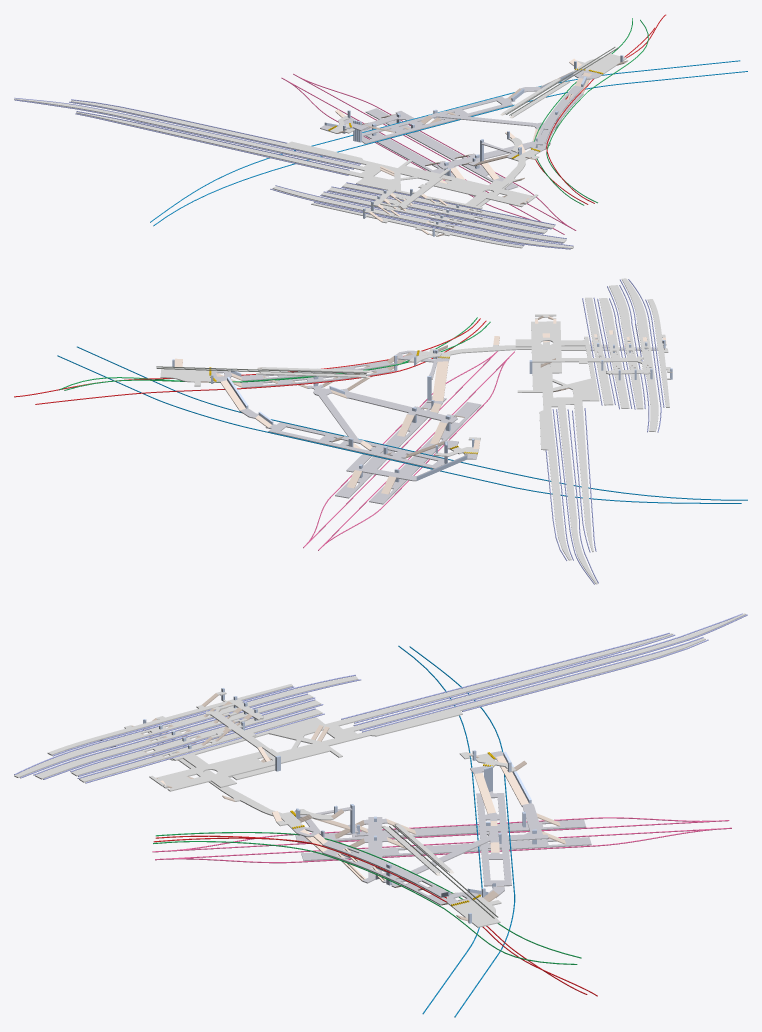
The model's file is t-centralen.glb.
3 views of the same model, one above another, from view 1: azimuth 30°, elevation 25°; view 2: azimuth 150°, elevation 25°; view 3: azimuth 270°, elevation 25° (orthographic). The views are drawn at different scales.
Visible parts, largest first — view 1: rect46439-3-8, path1187-0, path17408, path17410, rect11232, path2859-3, path17393, path2861-8, path17391, path27604, rect3630, path1860 (+3 smaller); view 2: rect46439-3-8, path1187-0, path17408, rect11232, path17410, path2861-8, path17391, path17393, path2859-3, path1860, rect25955, rect3630 (+7 smaller); view 3: rect46439-3-8, path1187-0, path17408, path17410, rect11232, path2861-8, path2859-3, path1860, path27604, rect3630, path32511, path17401 (+9 smaller).
Boxes of the visible parts, x1,y1,x2,y2 form: rect46439-3-8: (14,98,532,209); path1187-0: (272,183,573,248); path17408: (270,182,573,249); path17410: (14,97,361,175); rect11232: (362,96,515,143); path2859-3: (365,108,518,189); path17393: (153,71,747,226); path2861-8: (343,117,485,196); path17391: (150,60,740,222); path27604: (537,85,583,143); rect3630: (371,169,449,209); path1860: (431,149,539,235); rect46439-3-8: (515,321,599,584); path1187-0: (585,278,670,431); path17408: (582,279,664,432); rect11232: (265,422,448,468); path17410: (545,408,598,584); path2861-8: (369,402,481,504); path17391: (57,355,741,503); path17393: (77,346,747,500); path2859-3: (335,396,446,498); path1860: (417,342,657,367); rect25955: (341,388,457,423); rect3630: (532,356,650,374); rect46439-3-8: (156,613,746,791); path1187-0: (14,676,358,782); path17408: (14,674,361,783); path17410: (341,613,747,732); rect11232: (476,791,511,888); path2861-8: (295,819,586,843); path2859-3: (301,837,591,861); path1860: (145,727,302,828); path27604: (322,840,447,897); rect3630: (206,699,278,756); path32511: (451,896,501,927); path17401: (155,827,730,863).
Size of the model in its own units: 760 by 56.5 by 634.
